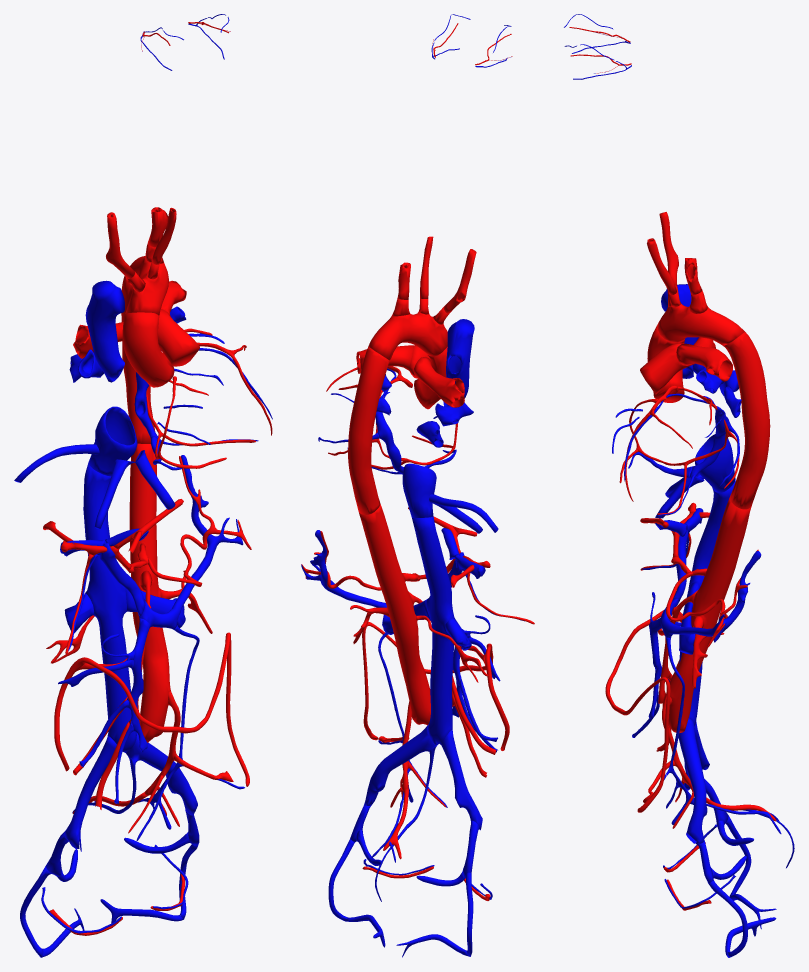
Rendered from vh_f_blood_vasculature-20.glb.
The picture shows the model from 3 angles, left to right: view 1: azimuth 30°, elevation 25°; view 2: azimuth 150°, elevation 25°; view 3: azimuth 270°, elevation 25°; orthographic projection. The views are drawn at different scales.
Visible parts, largest first — view 1: VH_F_inferior_vena_cava_b, VH_F_descending_aorta_b, VH_F_superior_vena_cava, VH_F_marginal_artery_of_Drummond, VH_F_ascending_aorta, VH_F_inferior_vena_cava_a, VH_F_splenic_vein, VH_F_aortic_arch, VH_F_left_common_iliac_vein, VH_F_pulmonary_trunk, VH_F_right_common_iliac_vein, VH_F_descending_aorta_a (+15 smaller); view 2: VH_F_descending_aorta_b, VH_F_inferior_vena_cava_b, VH_F_descending_aorta_a, VH_F_aortic_arch, VH_F_superior_vena_cava, VH_F_inferior_vena_cava_a, VH_F_left_common_iliac_vein, VH_F_marginal_artery_of_Drummond, VH_F_pulmonary_artery_R, VH_F_right_common_iliac_vein, VH_F_splenic_vein, VH_F_ascending_aorta (+6 smaller); view 3: VH_F_descending_aorta_b, VH_F_descending_aorta_a, VH_F_aortic_arch, VH_F_inferior_vena_cava_b, VH_F_left_common_iliac_vein, VH_F_marginal_artery_of_Drummond, VH_F_splenic_vein, VH_F_pulmonary_artery_L, VH_F_inferior_vena_cava_a, VH_F_pulmonary_trunk, VH_F_ascending_aorta, VH_F_splenic_artery (+11 smaller).
Part boxes in pixels (x1,y1,x2,y2): VH_F_inferior_vena_cava_b: (83, 462, 136, 752); VH_F_descending_aorta_b: (129, 443, 170, 742); VH_F_superior_vena_cava: (85, 280, 124, 382); VH_F_marginal_artery_of_Drummond: (54, 632, 249, 786); VH_F_ascending_aorta: (122, 312, 174, 387); VH_F_inferior_vena_cava_a: (88, 406, 137, 476); VH_F_splenic_vein: (138, 455, 243, 629); VH_F_aortic_arch: (125, 256, 168, 315); VH_F_left_common_iliac_vein: (125, 733, 197, 815); VH_F_pulmonary_trunk: (158, 309, 199, 366); VH_F_right_common_iliac_vein: (65, 736, 116, 848); VH_F_descending_aorta_a: (121, 276, 155, 443); VH_F_descending_aorta_b: (359, 504, 430, 725); VH_F_inferior_vena_cava_b: (412, 516, 454, 745); VH_F_descending_aorta_a: (348, 347, 389, 514); VH_F_aortic_arch: (368, 312, 447, 360); VH_F_superior_vena_cava: (443, 319, 474, 406); VH_F_inferior_vena_cava_a: (402, 463, 436, 517); VH_F_left_common_iliac_vein: (364, 724, 438, 805); VH_F_marginal_artery_of_Drummond: (362, 622, 509, 750); VH_F_pulmonary_artery_R: (414, 357, 464, 407); VH_F_right_common_iliac_vein: (441, 729, 482, 830); VH_F_splenic_vein: (301, 530, 386, 607); VH_F_ascending_aorta: (414, 347, 447, 409); VH_F_descending_aorta_b: (668, 497, 751, 732); VH_F_descending_aorta_a: (723, 332, 770, 509); VH_F_aortic_arch: (657, 303, 744, 345); VH_F_inferior_vena_cava_b: (679, 478, 735, 726); VH_F_left_common_iliac_vein: (678, 718, 707, 843); VH_F_marginal_artery_of_Drummond: (605, 610, 682, 812); VH_F_splenic_vein: (660, 551, 761, 642); VH_F_pulmonary_artery_L: (676, 343, 732, 381); VH_F_inferior_vena_cava_a: (695, 434, 735, 492); VH_F_pulmonary_trunk: (640, 343, 694, 394); VH_F_ascending_aorta: (647, 324, 685, 402); VH_F_splenic_artery: (666, 549, 758, 647).
Size of the model in its own units: 0.1926 by 0.7989 by 0.1847.
